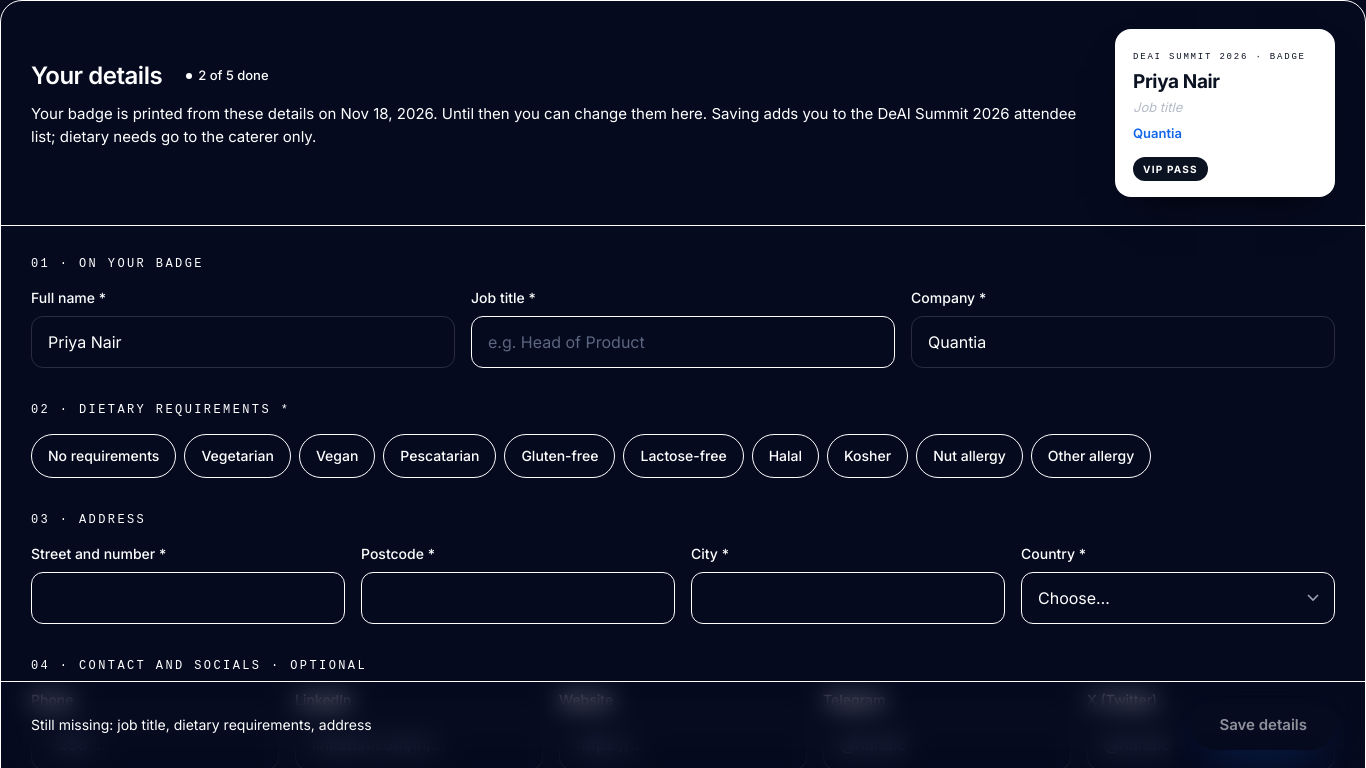
it: TicketDetailsForm › the badge preview follows what is typed; the save button waits for a change
expect the button "Save details" is disabled: met, box x1=1191 y1=700 x2=1335 y2=750
Type "Head of Product" into the field labelled "Job title *". click: (683, 342)
box: x1=471 y1=316 x2=895 y2=368
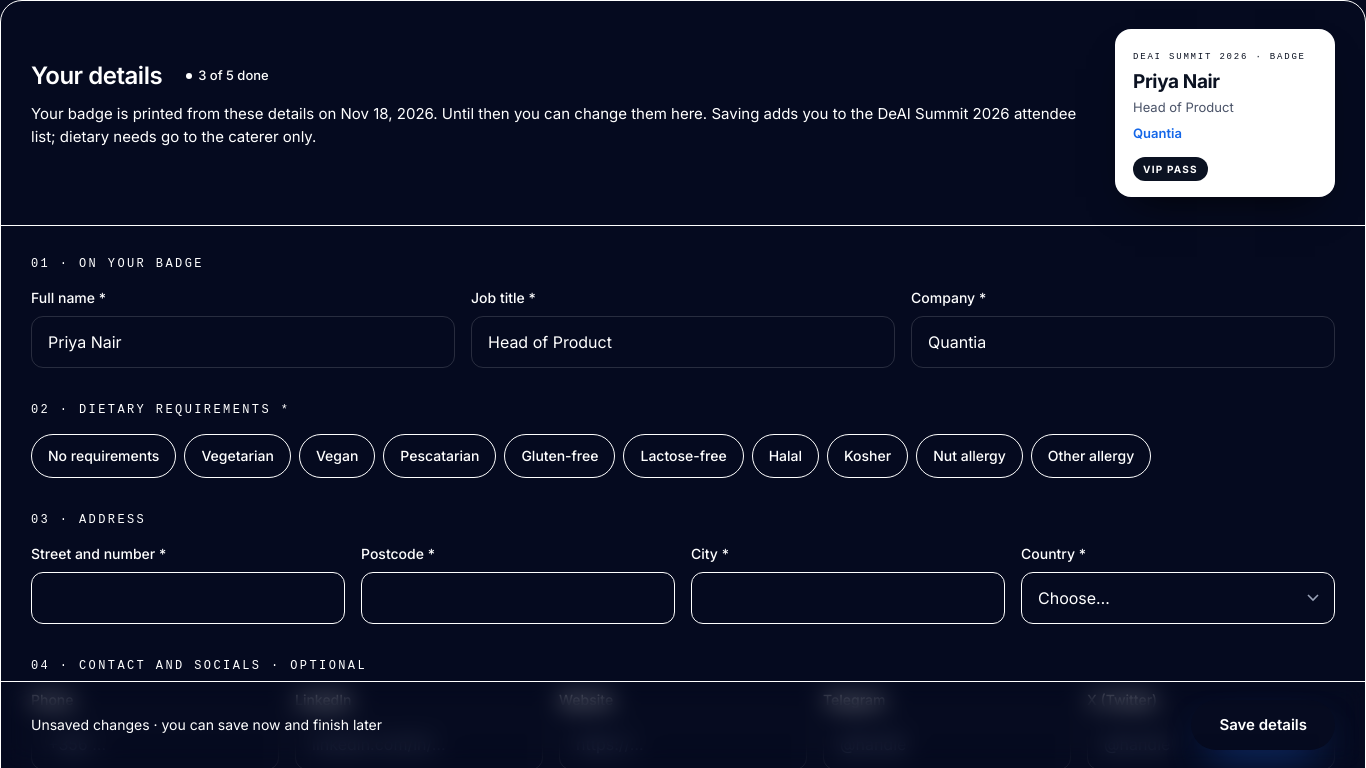
expect the text "Head of Product" is shown: met, box x1=1133 y1=99 x2=1234 y2=115
expect the button "Save details" is enabled: met, box x1=1191 y1=700 x2=1335 y2=750
expect the message reads "Unsaved changes · you can save now and finish later": met, box x1=31 y1=716 x2=382 y2=733
